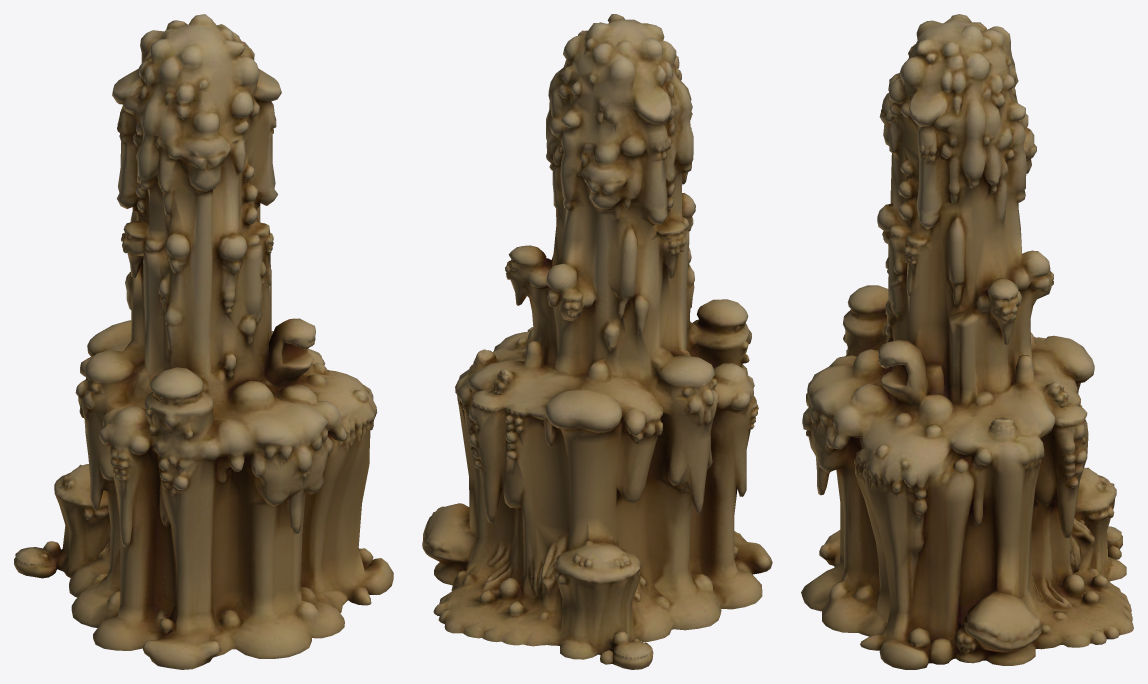
File: cav_flowstone_column_LOD0.glb
3 renders of one model, left to right at view 1: azimuth 30°, elevation 25°; view 2: azimuth 150°, elevation 25°; view 3: azimuth 270°, elevation 25°, orthographic. The views are drawn at different scales.
Visible parts, largest first — view 1: tripo_node_8a3f4ca2-850e-4edb-8c34-48b62ca6a1c1; view 2: tripo_node_8a3f4ca2-850e-4edb-8c34-48b62ca6a1c1; view 3: tripo_node_8a3f4ca2-850e-4edb-8c34-48b62ca6a1c1.
Part boxes in pixels (<box>): tripo_node_8a3f4ca2-850e-4edb-8c34-48b62ca6a1c1: <box>14,14,393,669</box>; tripo_node_8a3f4ca2-850e-4edb-8c34-48b62ca6a1c1: <box>422,14,772,669</box>; tripo_node_8a3f4ca2-850e-4edb-8c34-48b62ca6a1c1: <box>801,14,1133,669</box>.
Size of the model in its own units: 0.5371 by 0.998 by 0.5293.
1 material, 1 textured.
